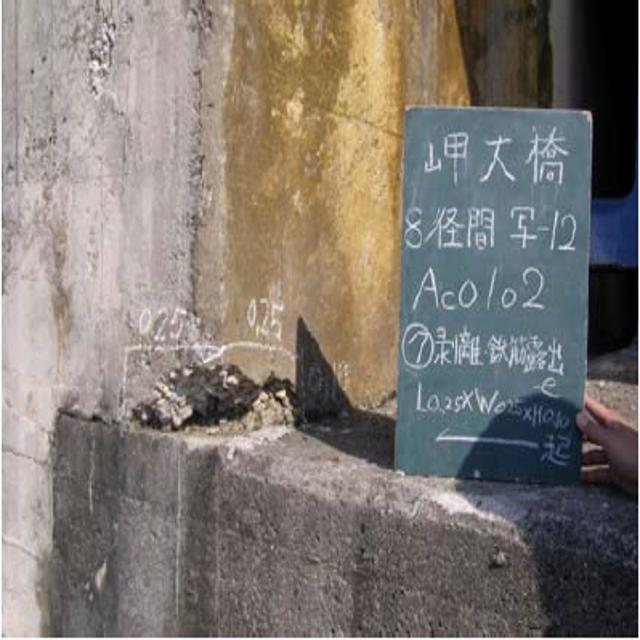spalling: (107, 323, 334, 450), (67, 7, 143, 97)
